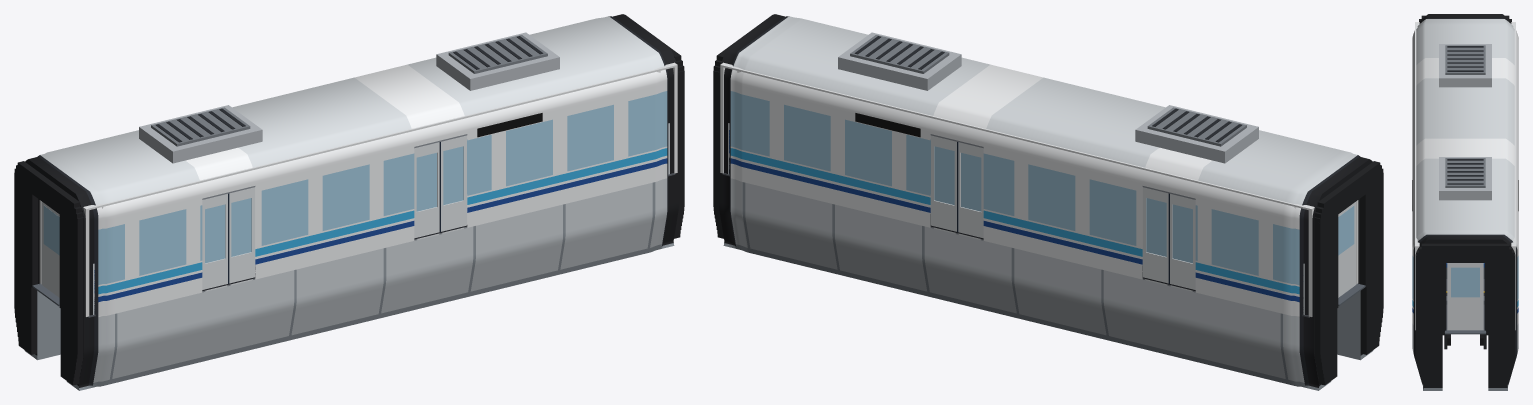
The model's file is osaka_car.obj.
The picture shows the model from 3 angles, left to right: view 1: azimuth 30°, elevation 25°; view 2: azimuth 150°, elevation 25°; view 3: azimuth 270°, elevation 25°; orthographic projection. The views are drawn at different scales.
Parts seen in each view (by area): view 1: SHELL, SHELL_diaphragm, SHELL_roof, EXTERNAL_DOOR_4_CG_DR1_TOGGLE_TL_-0.59_X, EXTERNAL_DOOR_10_CG_DR2_TOGGLE_TL_-0.59_X, EXTERNAL_DOOR_11_CG_DR2_TOGGLE_TL_0.59_X, EXTERNAL_DOOR_5_CG_DR1_TOGGLE_TL_0.59_X, SHELL_ceiling, CONNECTING_DOOR_1_CG_CR_TOGGLE_TL_0.98_Z, SHELL_end, SHELL_sign; view 2: SHELL, SHELL_diaphragm, SHELL_roof, EXTERNAL_DOOR_7_CG_DL1_TOGGLE_TL_-0.59_X, EXTERNAL_DOOR_13_CG_DL2_TOGGLE_TL_-0.59_X, EXTERNAL_DOOR_14_CG_DL2_TOGGLE_TL_0.59_X, EXTERNAL_DOOR_8_CG_DL1_TOGGLE_TL_0.59_X, SHELL_ceiling, CONNECTING_DOOR_1_CG_CR_TOGGLE_TL_0.98_Z, SHELL_end, SHELL_sign; view 3: SHELL, SHELL_diaphragm, SHELL_roof, CONNECTING_DOOR_2_CG_CF_TOGGLE_TL_0.98_Z, SHELL_ceiling, SHELL_end, BOGEY_FRONT, FLOOR, SHELL_gangway.
Part boxes in pixels (left/top/right/bottom): SHELL: left=24, top=14, right=678, bottom=390; SHELL_diaphragm: left=14, top=14, right=684, bottom=385; SHELL_roof: left=139, top=32, right=559, bottom=163; EXTERNAL_DOOR_4_CG_DR1_TOGGLE_TL_-0.59_X: left=202, top=193, right=229, bottom=289; EXTERNAL_DOOR_10_CG_DR2_TOGGLE_TL_-0.59_X: left=414, top=142, right=440, bottom=238; EXTERNAL_DOOR_11_CG_DR2_TOGGLE_TL_0.59_X: left=441, top=135, right=466, bottom=231; EXTERNAL_DOOR_5_CG_DR1_TOGGLE_TL_0.59_X: left=229, top=187, right=254, bottom=283; SHELL_ceiling: left=24, top=63, right=674, bottom=209; CONNECTING_DOOR_1_CG_CR_TOGGLE_TL_0.98_Z: left=41, top=201, right=59, bottom=297; SHELL_end: left=39, top=62, right=677, bottom=316; SHELL_sign: left=477, top=113, right=542, bottom=137; SHELL: left=719, top=14, right=1373, bottom=390; SHELL_diaphragm: left=713, top=14, right=1383, bottom=385; SHELL_roof: left=838, top=32, right=1258, bottom=163; EXTERNAL_DOOR_7_CG_DL1_TOGGLE_TL_-0.59_X: left=1168, top=193, right=1195, bottom=289; EXTERNAL_DOOR_13_CG_DL2_TOGGLE_TL_-0.59_X: left=957, top=142, right=983, bottom=238; EXTERNAL_DOOR_14_CG_DL2_TOGGLE_TL_0.59_X: left=931, top=135, right=956, bottom=231; EXTERNAL_DOOR_8_CG_DL1_TOGGLE_TL_0.59_X: left=1143, top=187, right=1168, bottom=283; SHELL_ceiling: left=723, top=63, right=1373, bottom=209; CONNECTING_DOOR_1_CG_CR_TOGGLE_TL_0.98_Z: left=1338, top=201, right=1356, bottom=297; SHELL_end: left=720, top=62, right=1358, bottom=316; SHELL_sign: left=855, top=113, right=920, bottom=137; SHELL: left=1412, top=14, right=1518, bottom=390; SHELL_diaphragm: left=1416, top=15, right=1514, bottom=387; SHELL_roof: left=1439, top=44, right=1491, bottom=200; CONNECTING_DOOR_2_CG_CF_TOGGLE_TL_0.98_Z: left=1447, top=263, right=1483, bottom=330; SHELL_ceiling: left=1415, top=23, right=1515, bottom=245; SHELL_end: left=1415, top=22, right=1515, bottom=330; BOGEY_FRONT: left=1444, top=332, right=1486, bottom=349; FLOOR: left=1445, top=279, right=1485, bottom=334; SHELL_gangway: left=1445, top=329, right=1485, bottom=333.
Size of the model in its own units: 14.92 by 4.91 by 2.92.
1 material, 1 textured.
